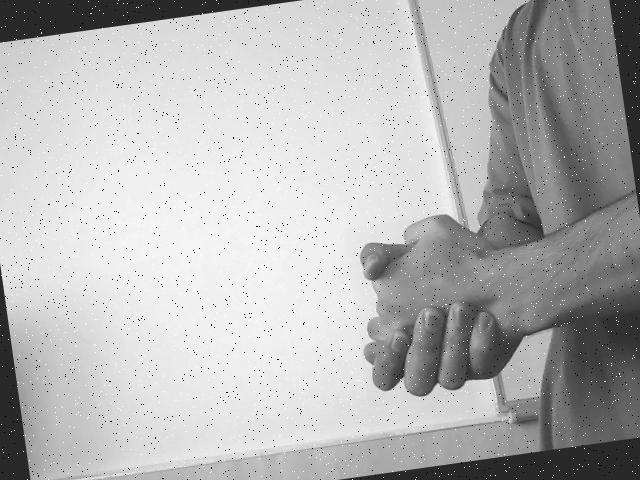friend: (356, 215, 528, 402)
